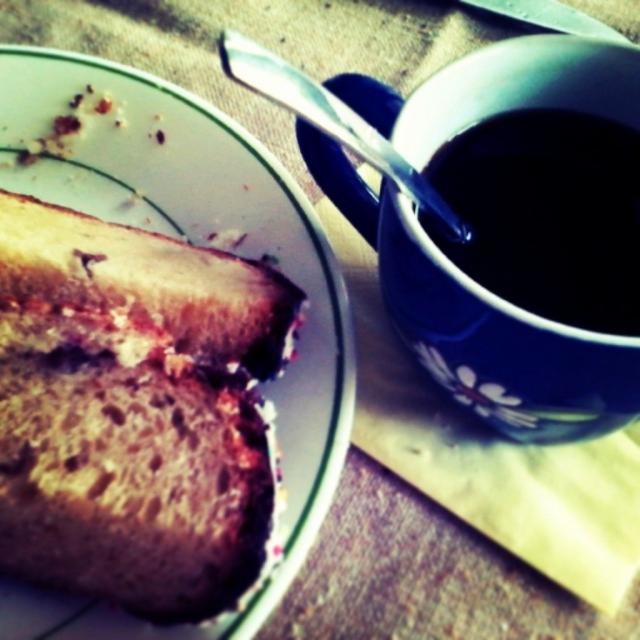Tea: (413, 106, 639, 338)
